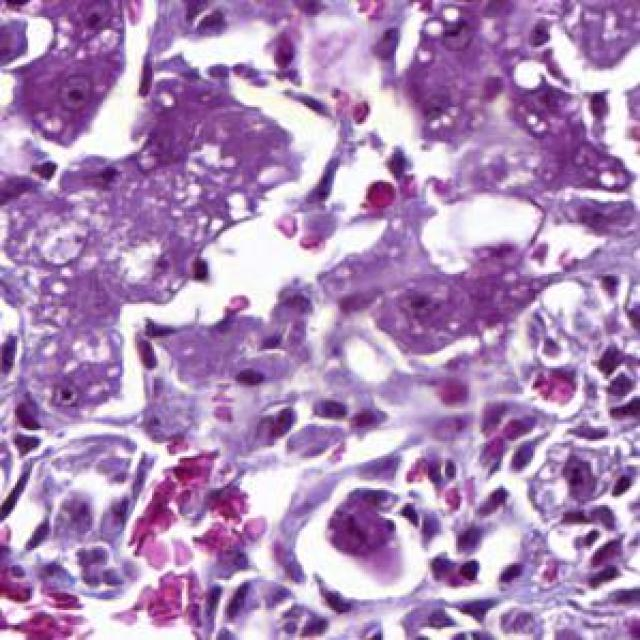ballooning: (501, 270, 625, 426)
